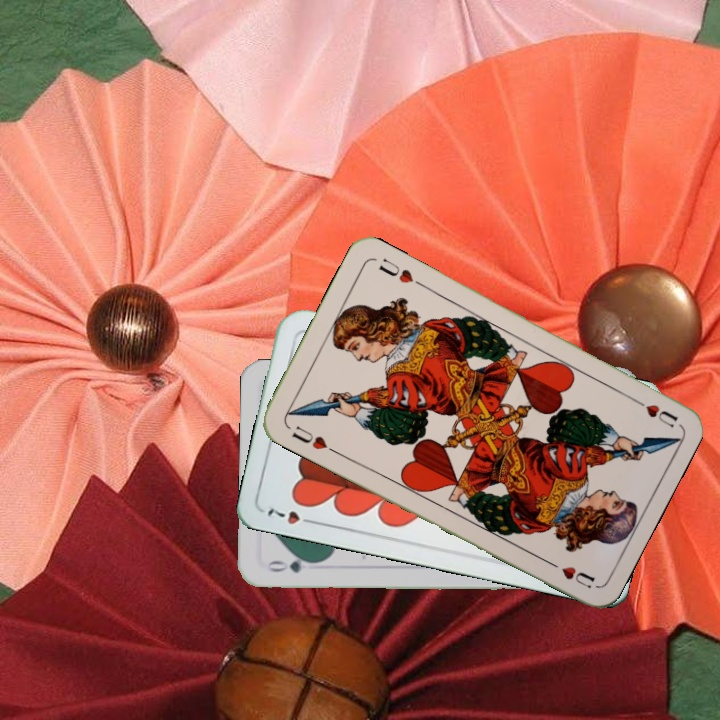GO: (262, 553, 321, 576)
H7: (263, 503, 320, 527)
HU: (626, 392, 681, 431), (287, 421, 338, 456)
